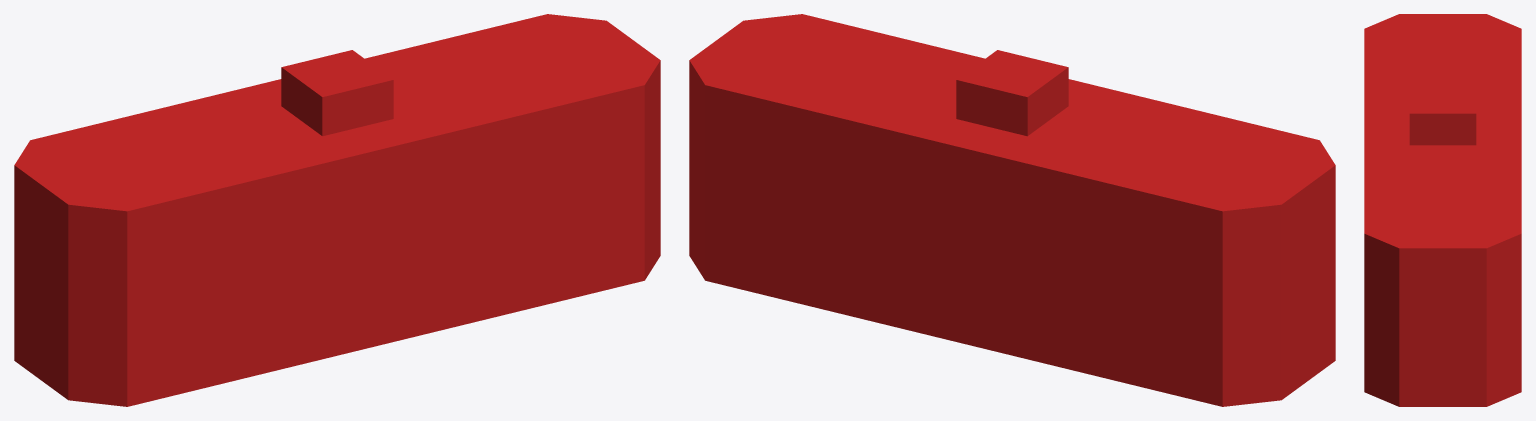
Rendered from 2_colored.obj.
3 renders of one model, left to right at view 1: azimuth 30°, elevation 25°; view 2: azimuth 150°, elevation 25°; view 3: azimuth 270°, elevation 25°, orthographic. The views are drawn at different scales.
Size of the model in its own units: 0.1584 by 0.06 by 0.045.
